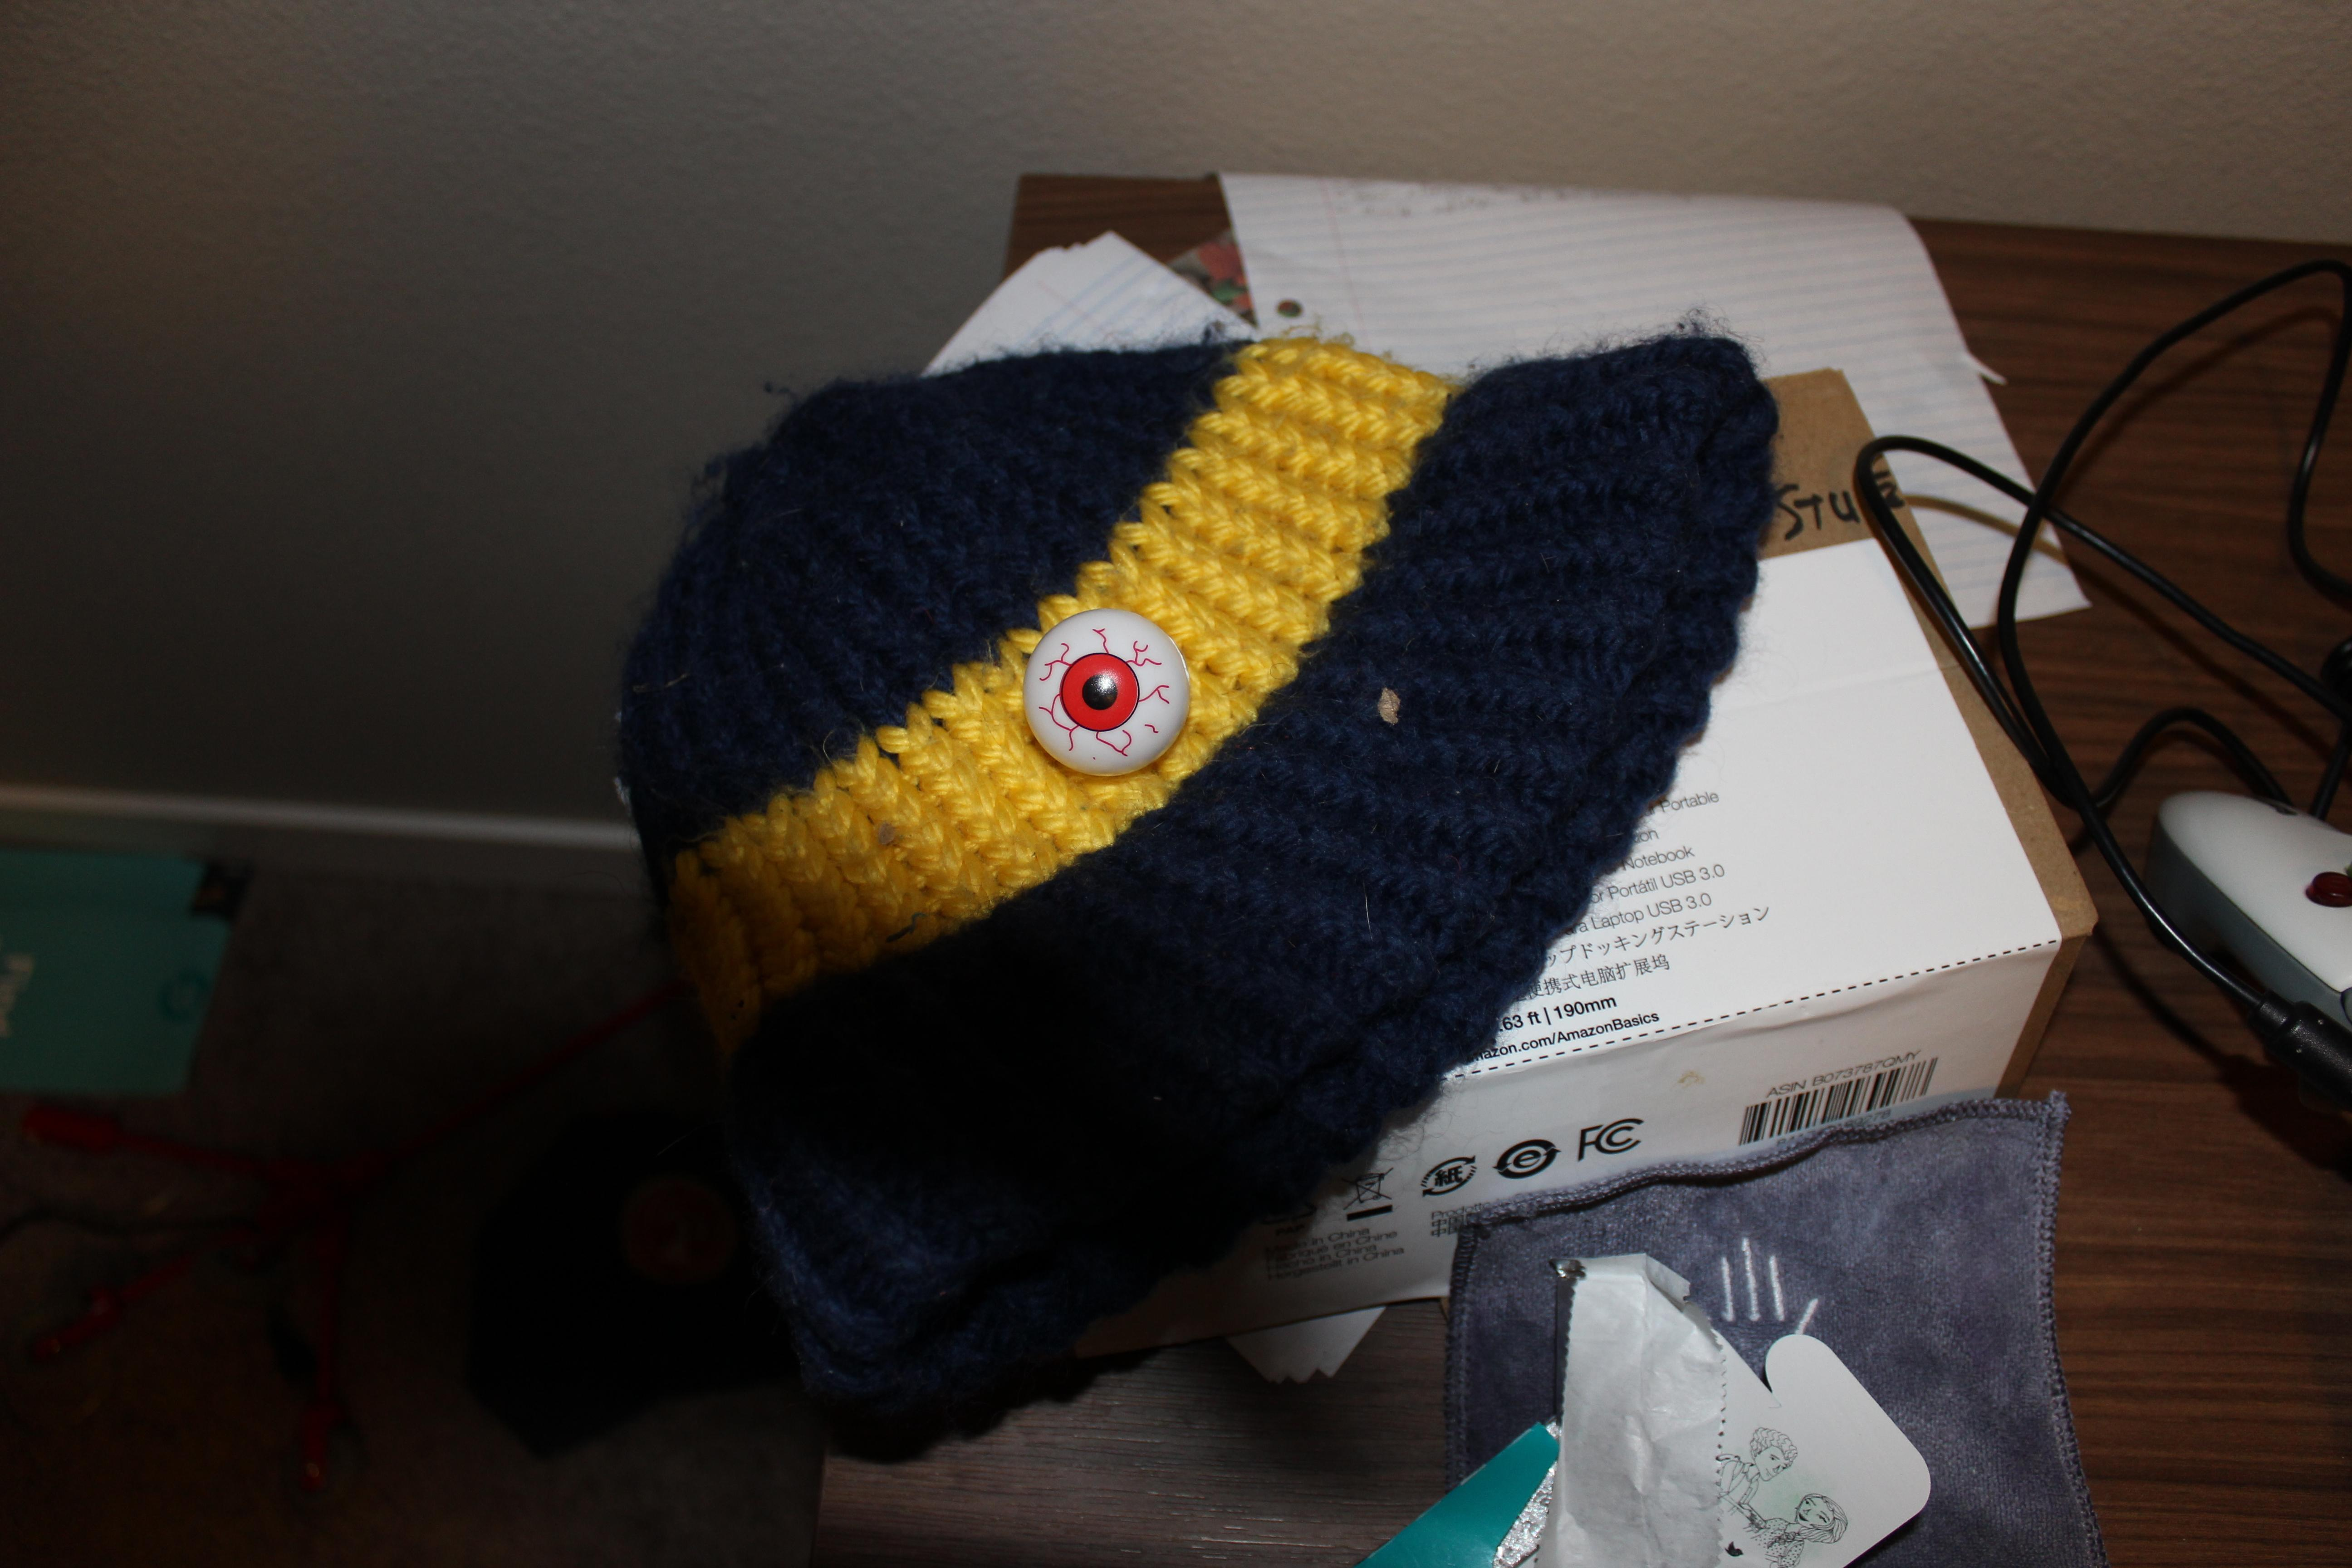eyeball: (1006, 596, 1203, 789)
